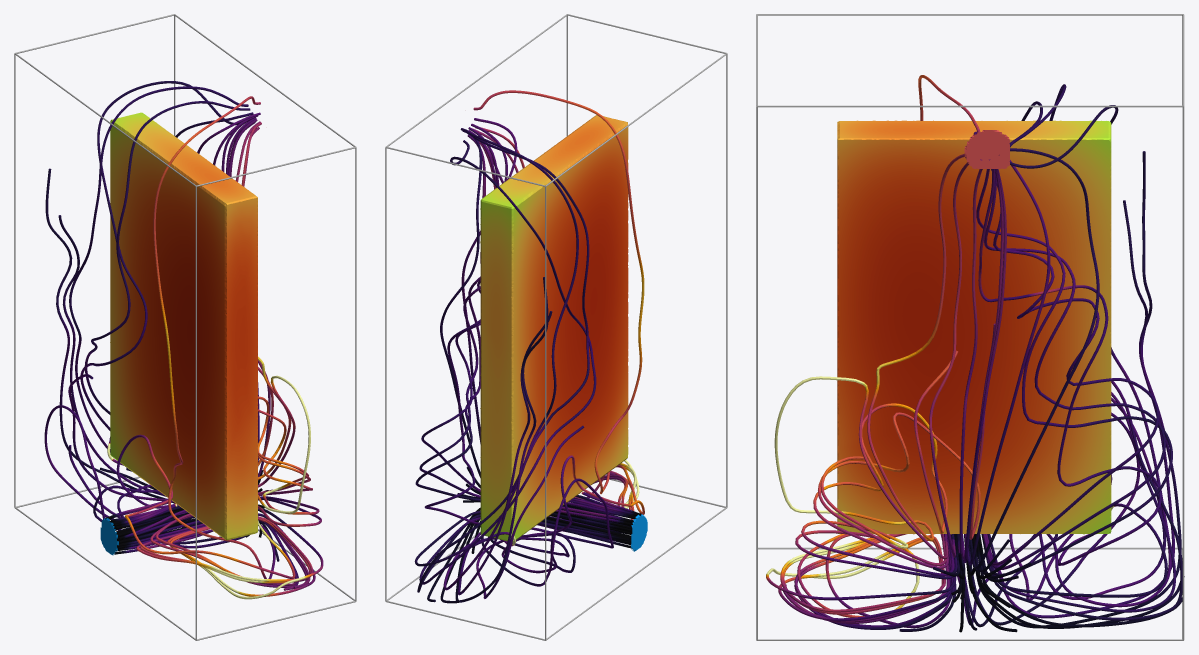
The model's file is mineraloil-server.glb.
3 renders of one model, left to right at view 1: azimuth 30°, elevation 25°; view 2: azimuth 150°, elevation 25°; view 3: azimuth 270°, elevation 25°, orthographic. The views are drawn at different scales.
Parts seen in each view (by area): view 1: Renderer Node; view 2: Renderer Node; view 3: Renderer Node.
Boxes of the visible parts, box(x1,y1,x2,y2) form: Renderer Node: box(14, 14, 356, 640); Renderer Node: box(385, 14, 727, 640); Renderer Node: box(756, 14, 1184, 640).
Bounding box in the file's own units: 0.2153 × 0.5825 × 0.4222.
5 materials, 2 textured.
